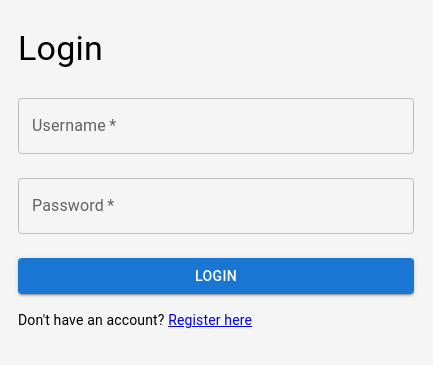
it: LoginPage › displays error message on login failure
Type "testuser" into the field labelled "Username *" at (216, 126), box 18,98 -> 414,154
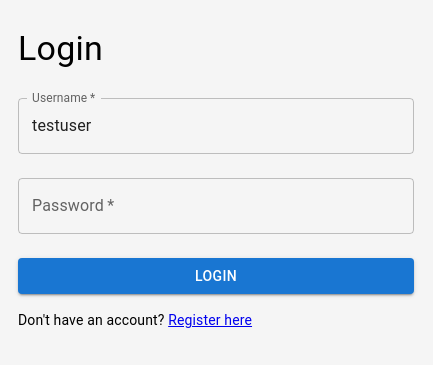
Type "wrongpassword" into the password field labelled "Password *" at (216, 206), box 18,178 -> 414,234
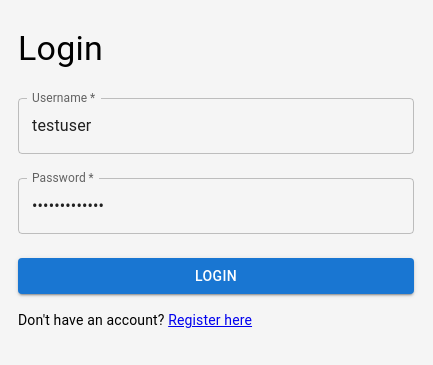
Click the button "Login" at (216, 276), box 18,258 -> 414,294
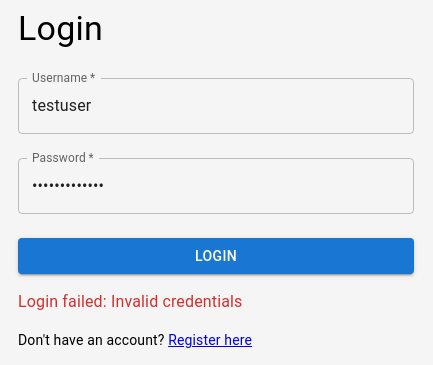
Now the text "Login failed: Invalid credentials" is shown, box 18,292 -> 242,311
